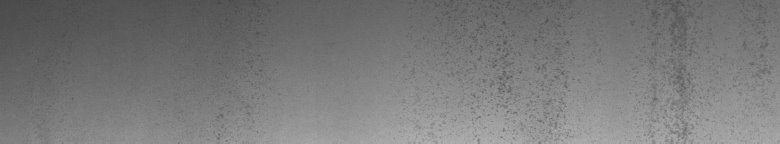ib: (436, 7, 574, 132)
